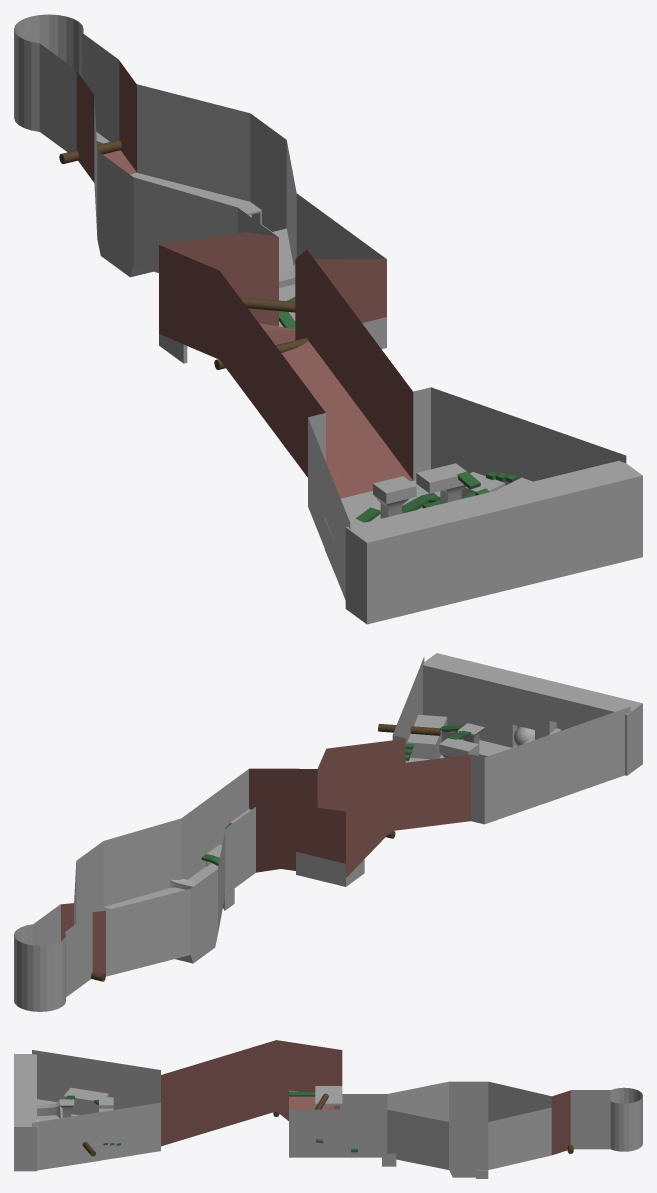
The model's file is JungleLevel_BlockoutTest_V2.fbx.
The picture shows the model from 3 angles, top to bottom: view 1: azimuth 30°, elevation 25°; view 2: azimuth 150°, elevation 25°; view 3: azimuth 270°, elevation 25°; orthographic projection. The views are drawn at different scales.
Parts seen in each view (by area): view 1: StartSection, MudRamp2, Temple_Entrance, Final_Section1, MudRamp1, pCube19, pCube20; view 2: StartSection, MudRamp2, Temple_Entrance, Final_Section1, MudRamp1, pCube29, pCube11, pCube1, pCube19; view 3: StartSection, MudRamp2, Final_Section1, Temple_Entrance, MudRamp1, pCube1, pCube11, pCube28, pCube37, pCube10, pCube27.
Part boxes in pixels (<box>): StartSection: <box>14,14,385,329</box>; MudRamp2: <box>159,232,413,498</box>; Temple_Entrance: <box>345,460,642,624</box>; Final_Section1: <box>308,387,626,599</box>; MudRamp1: <box>76,61,136,182</box>; pCube19: <box>416,463,466,493</box>; pCube20: <box>373,476,416,503</box>; StartSection: <box>14,769,255,1011</box>; MudRamp2: <box>249,738,470,877</box>; Temple_Entrance: <box>423,653,642,775</box>; Final_Section1: <box>392,657,630,824</box>; MudRamp1: <box>61,903,105,975</box>; pCube29: <box>296,852,347,886</box>; pCube11: <box>407,714,447,759</box>; pCube1: <box>543,768,580,803</box>; pCube19: <box>439,738,478,756</box>; StartSection: <box>289,1081,642,1177</box>; MudRamp2: <box>161,1040,342,1146</box>; Final_Section1: <box>32,1050,160,1170</box>; Temple_Entrance: <box>14,1054,36,1171</box>; MudRamp1: <box>551,1090,570,1155</box>; pCube1: <box>63,1087,108,1115</box>; pCube11: <box>56,1144,101,1167</box>; pCube28: <box>315,1086,342,1105</box>; pCube37: <box>37,1100,60,1118</box>; pCube10: <box>112,1145,133,1158</box>; pCube27: <box>59,1099,74,1117</box>.
Bounding box in the file's own units: 7144 × 3344 × 22355.
